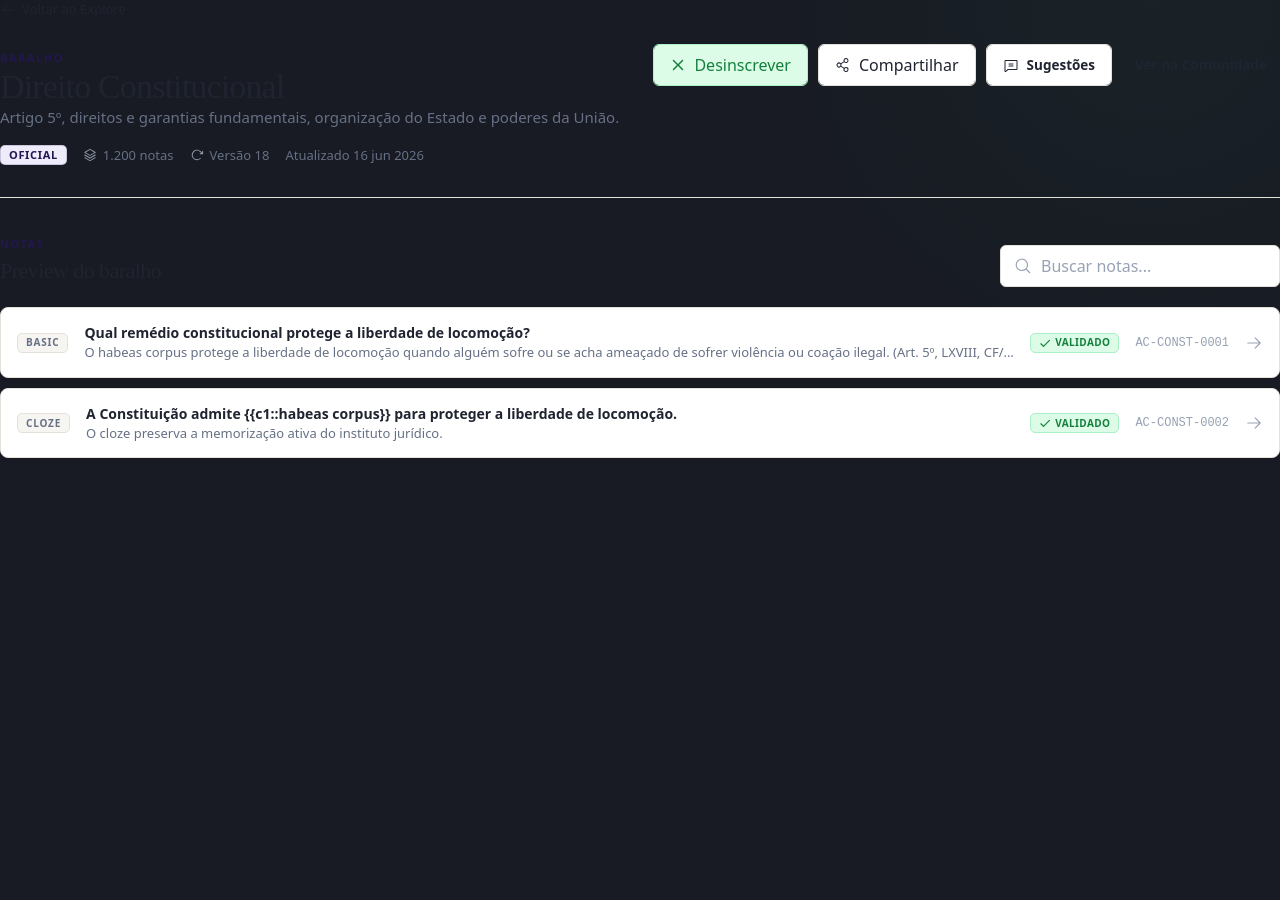
Test: DeckPage comments panel › shows a unified comment entry and chronological feed without filters
Click the button "Qual rem".
click(640, 343)  # box [0, 307, 1279, 378]
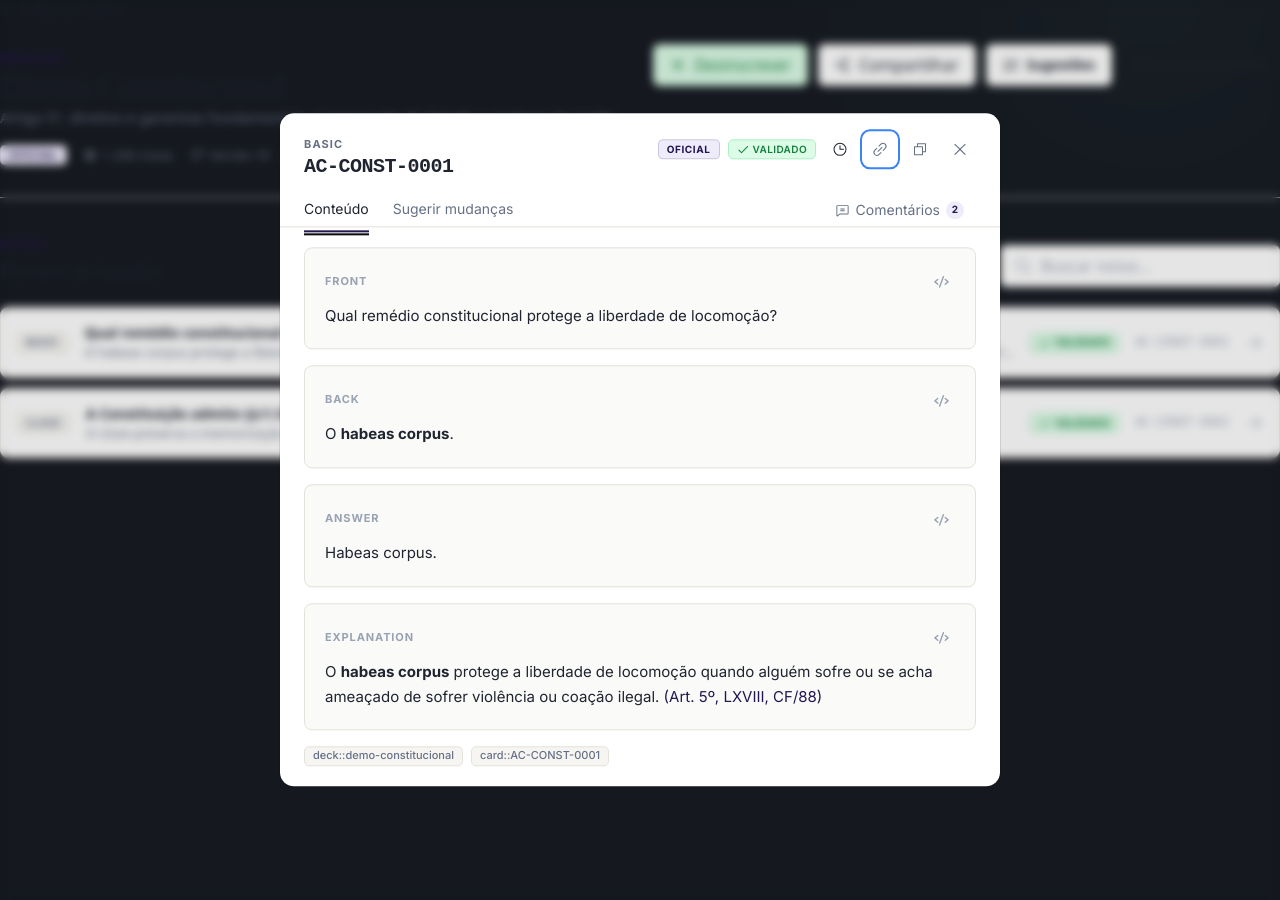
Click the button "Comentários 2".
click(899, 210)  # box [823, 194, 976, 226]
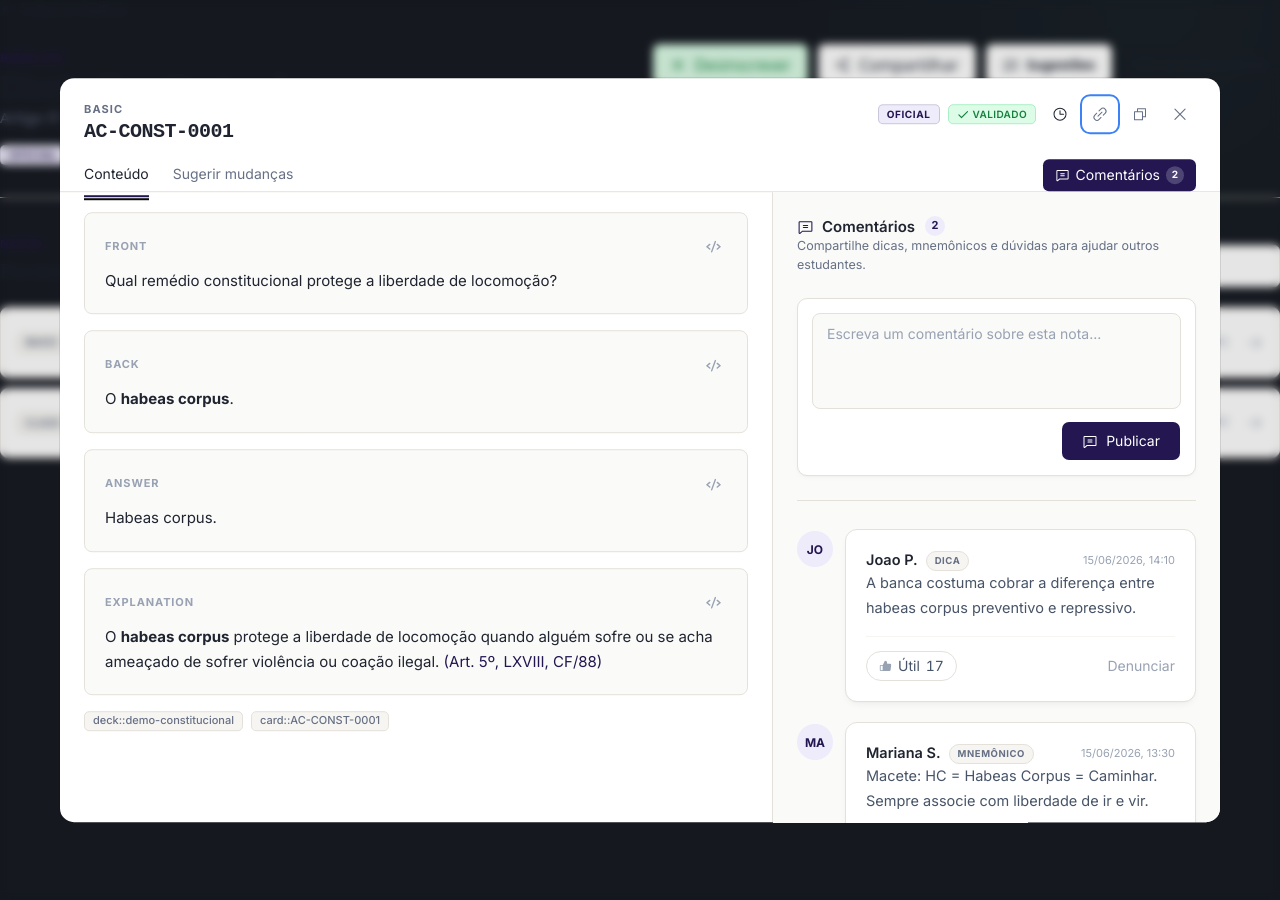
Check: the text box with placeholder "Escreva um comentário sobre esta nota..." is shown, box [812, 314, 1181, 410]
Check: the text "Mariana S." is shown, box [866, 744, 941, 764]
Check: the text "Joao P." is shown, box [866, 551, 918, 571]
